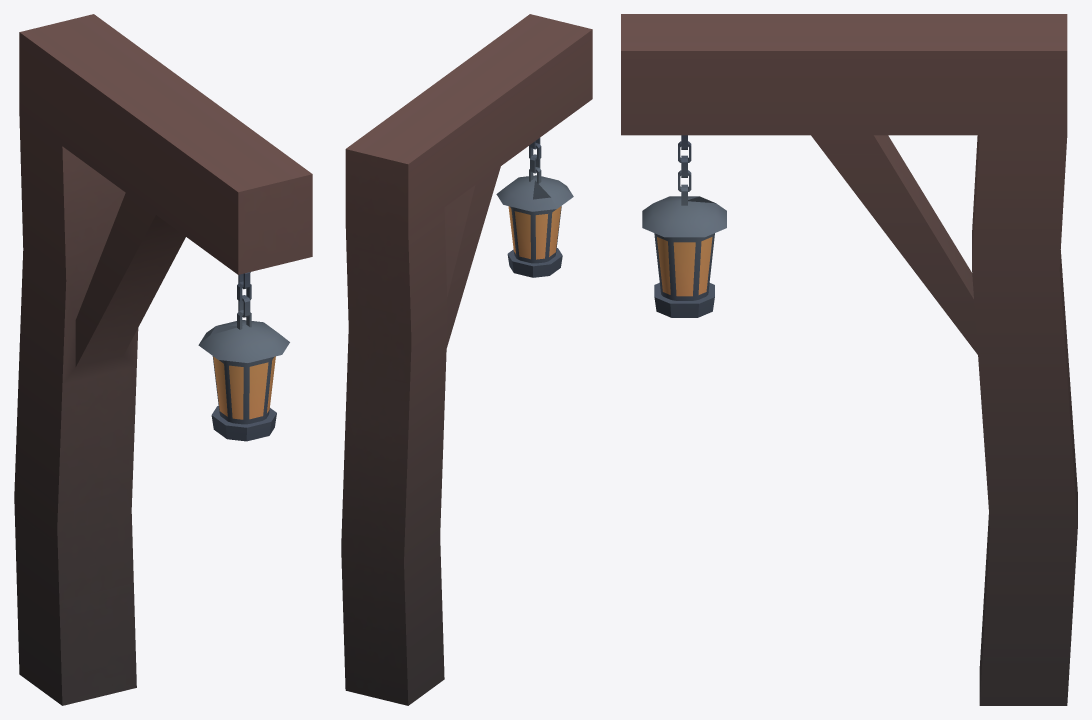
3 renders of one model, left to right at view 1: azimuth 30°, elevation 25°; view 2: azimuth 150°, elevation 25°; view 3: azimuth 270°, elevation 25°, orthographic. The views are drawn at different scales.
Parts seen in each view (by area): view 1: Cube_8; view 2: Cube_8; view 3: Cube_8.
Boxes of the visible parts, left/top/right/bottom form: Cube_8: left=14, top=14, right=312, bottom=705; Cube_8: left=341, top=14, right=592, bottom=705; Cube_8: left=621, top=14, right=1077, bottom=705.
Size of the model in its own units: 6.9 by 56.89 by 35.95.
